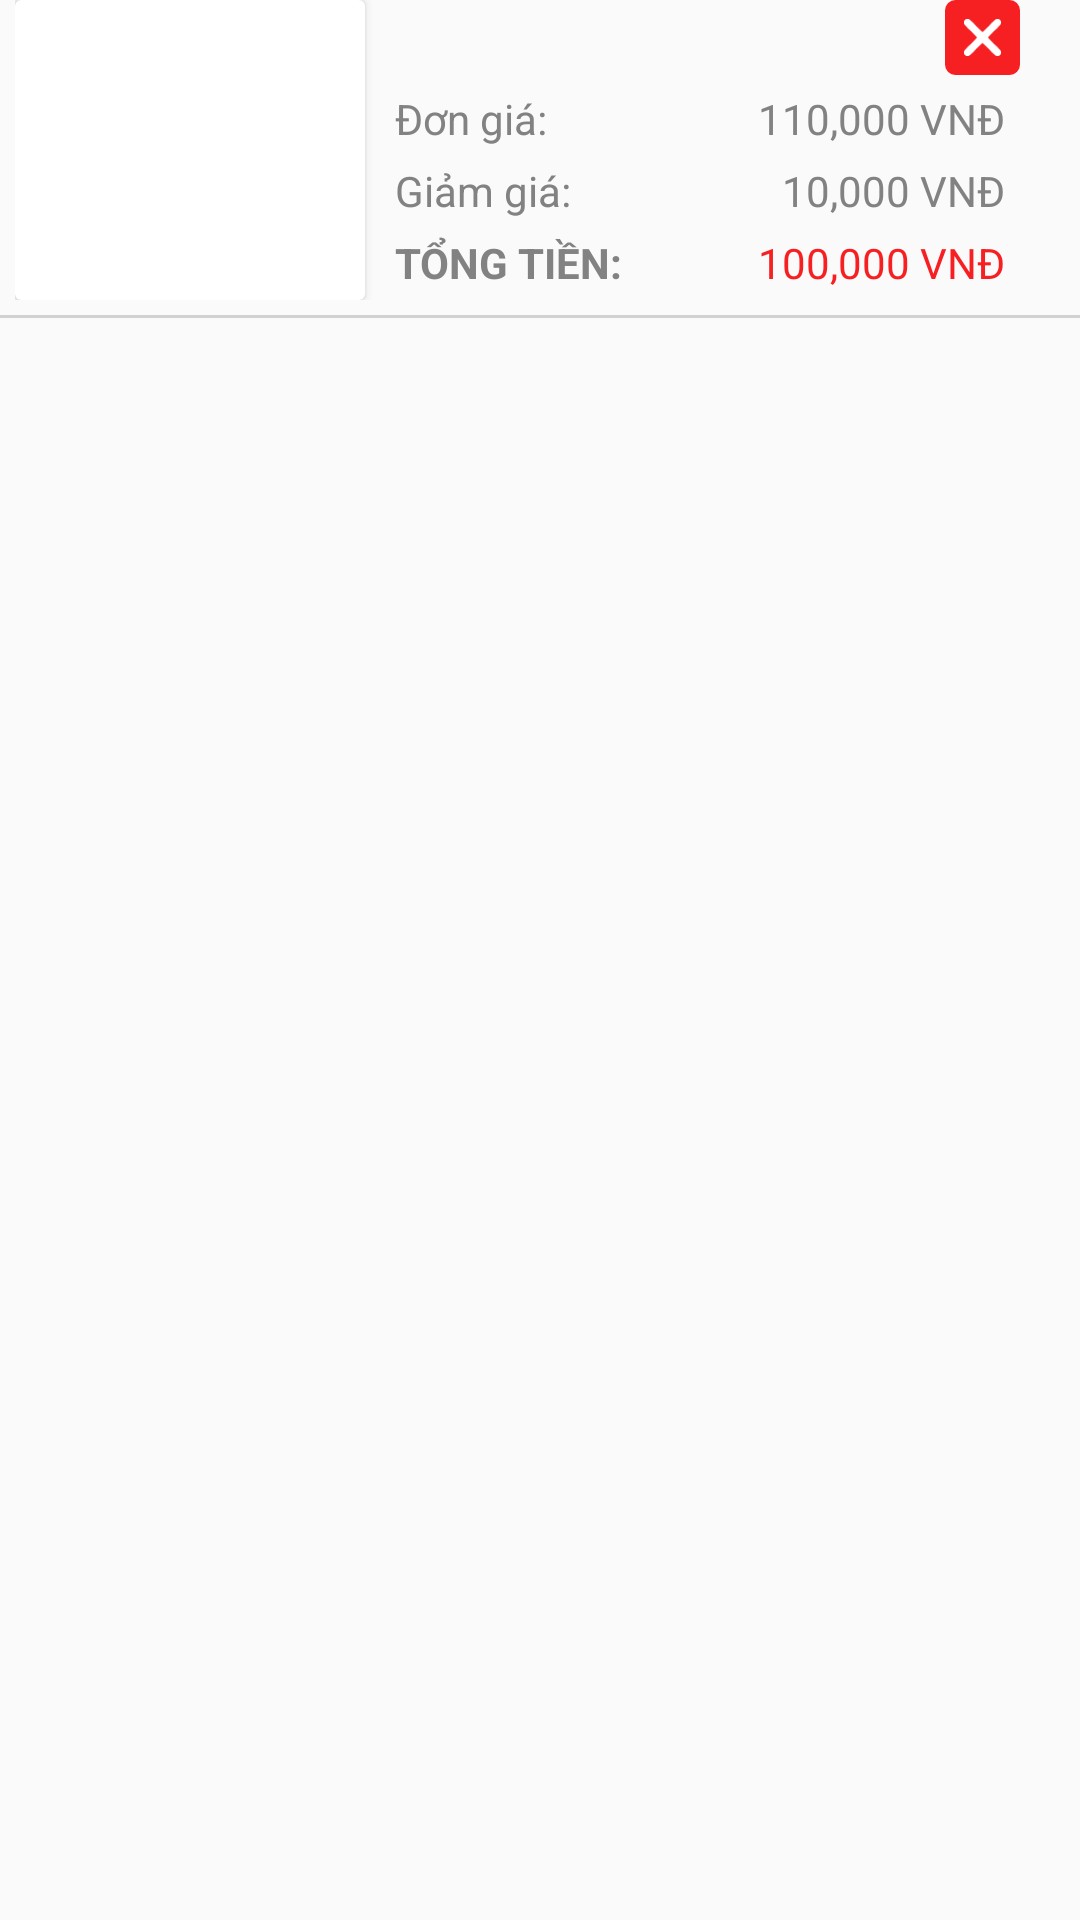

Screen size 1080w x 1920h. Icon name, then its center in pixels as [x,y]:
remove: [982,37]
